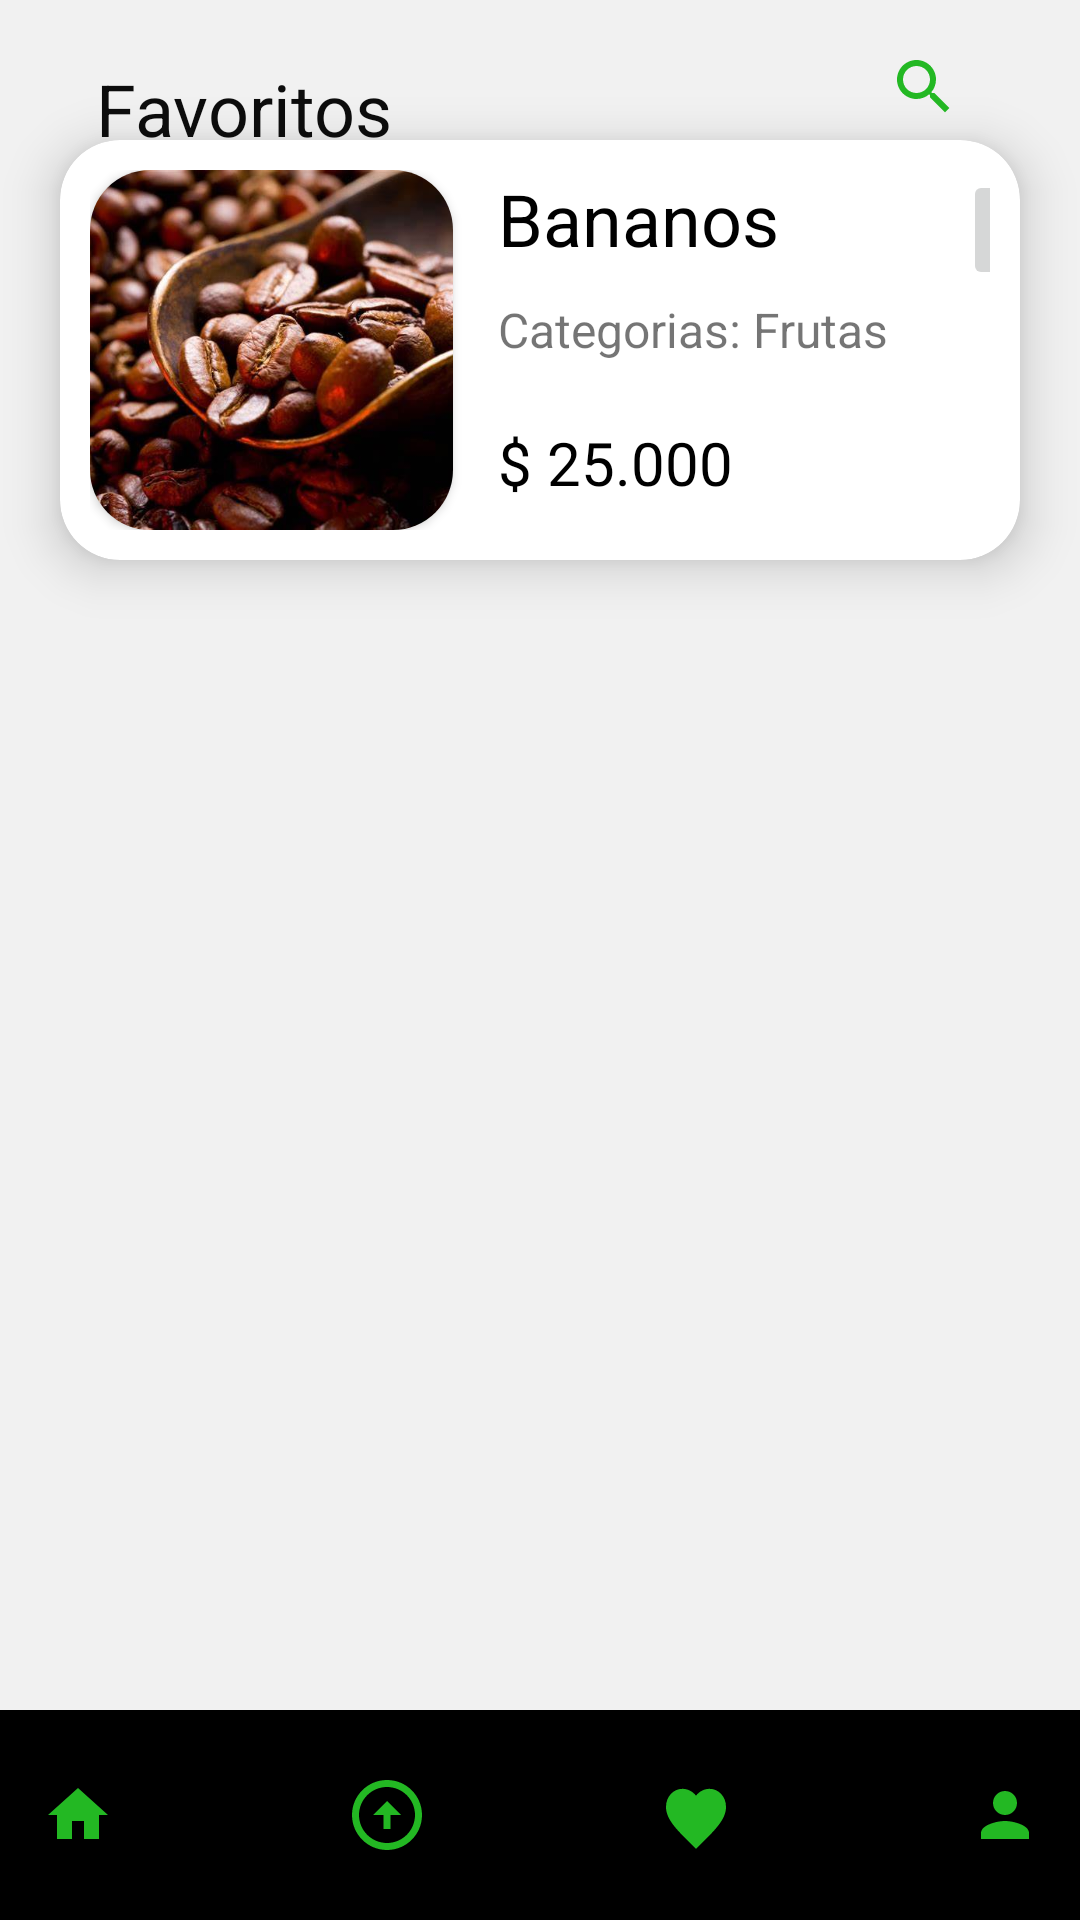

Named icons in this screenshot (1080x1920) and their centers, (x=x, y=y):
arrow circle up: (x=387, y=1815)
busquedal: (x=923, y=86)
favorito: (x=696, y=1818)
